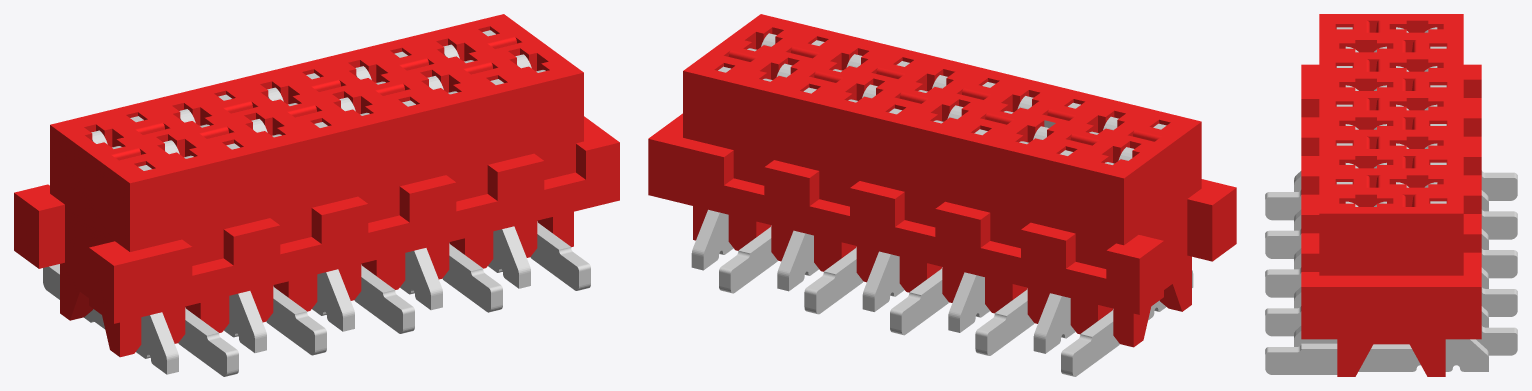
The model's file is mm-10p-smd_p1-27_l14-6_w5_h5-25.obj.
3 views of the same model, side by side, from view 1: azimuth 30°, elevation 25°; view 2: azimuth 150°, elevation 25°; view 3: azimuth 270°, elevation 25° (orthographic). The views are drawn at different scales.
Parts seen in each view (by area): view 1: mm-10p-smd_p1-27_l14-6_w5_h5-25; view 2: mm-10p-smd_p1-27_l14-6_w5_h5-25; view 3: mm-10p-smd_p1-27_l14-6_w5_h5-25.
Boxes of the visible parts, bbox=[...] form: mm-10p-smd_p1-27_l14-6_w5_h5-25: bbox=[14, 14, 619, 376]; mm-10p-smd_p1-27_l14-6_w5_h5-25: bbox=[648, 14, 1236, 376]; mm-10p-smd_p1-27_l14-6_w5_h5-25: bbox=[1265, 14, 1517, 376].
Bounding box in the file's own units: 0.0166 × 0.00596 × 0.00795.
